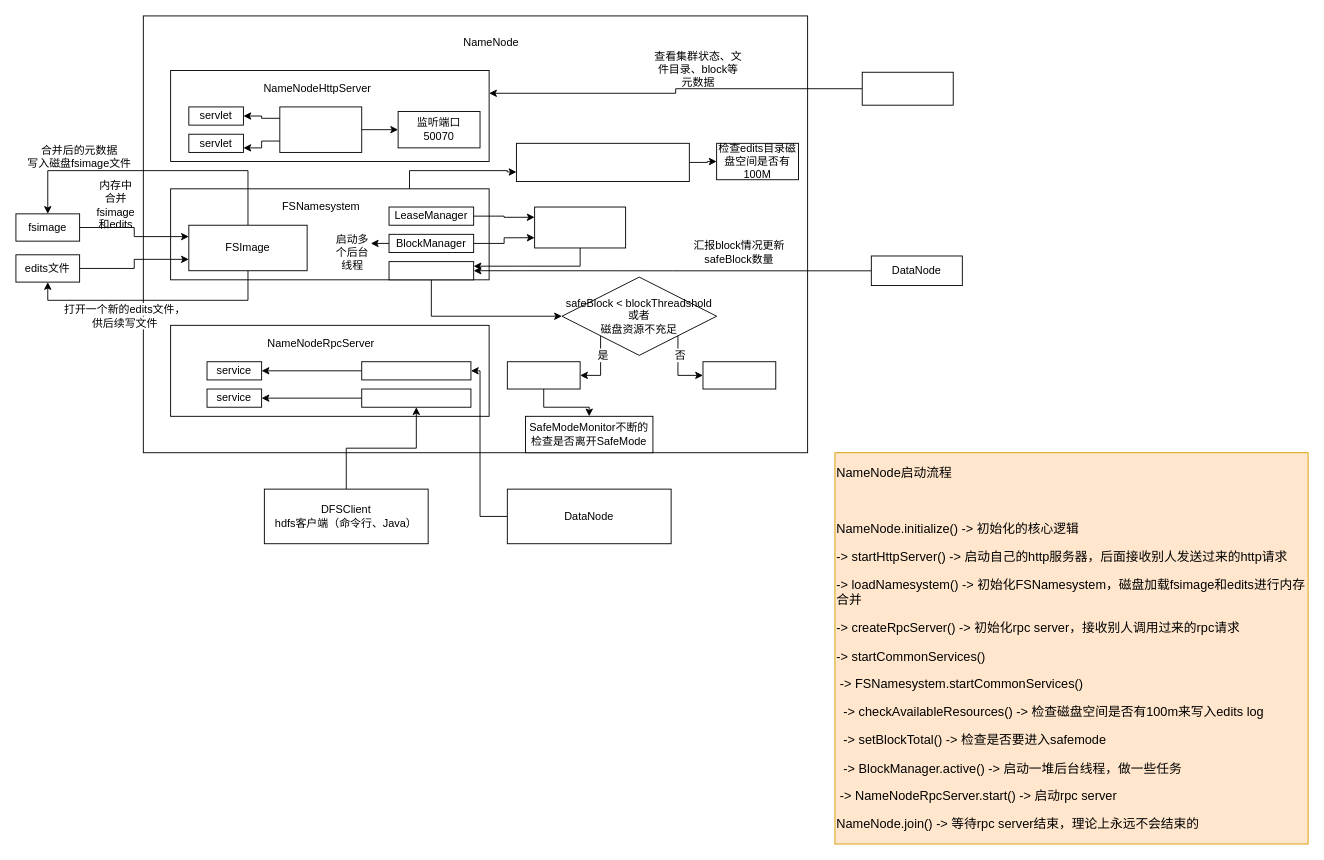
Some shapes in this 1324 by 860 pixel diagram are drawn without their labels. The centre of each missing label's shape, as x and y in pixels:
"ClientRpcServer" belongs at point (416, 397).
"HttpServer2" belongs at point (320, 129).
"l浏览器请求50070端口" belongs at point (907, 88).
"NameNodeResourceChecker" belongs at point (602, 162).
"SafeMode" belongs at point (431, 270).
"ServiceRpcServer" belongs at point (416, 370).
"获取状态为complete的block的总数量" belongs at point (580, 227).
"进入SafeMode" belongs at point (543, 375).
"退出SafeMode" belongs at point (739, 375).
